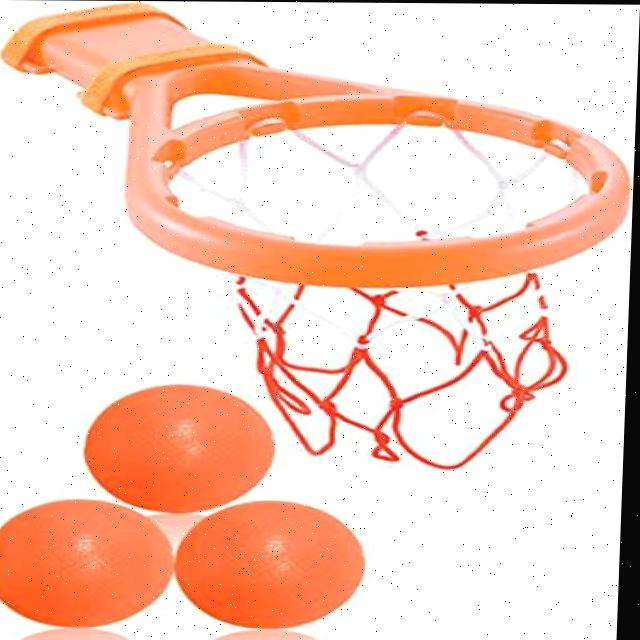Basketball: (174, 499, 369, 629), (84, 384, 278, 514), (0, 498, 176, 627)
hoop: (117, 88, 636, 470)
